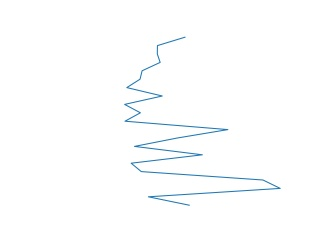crevasseRiverBedLagDeposit: (122, 34, 283, 208)
